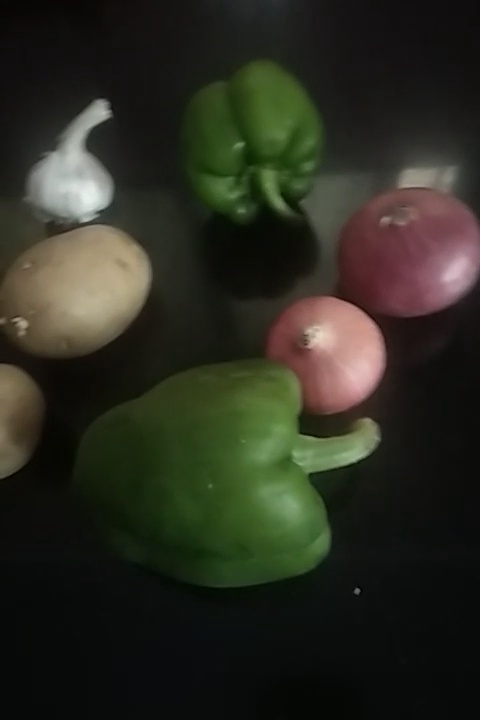capsicum: (53, 371, 385, 595), (174, 51, 319, 225)
garlic: (14, 95, 139, 238)
onion: (266, 277, 406, 419), (333, 189, 480, 315)
potato: (1, 222, 167, 359), (1, 362, 62, 466)
